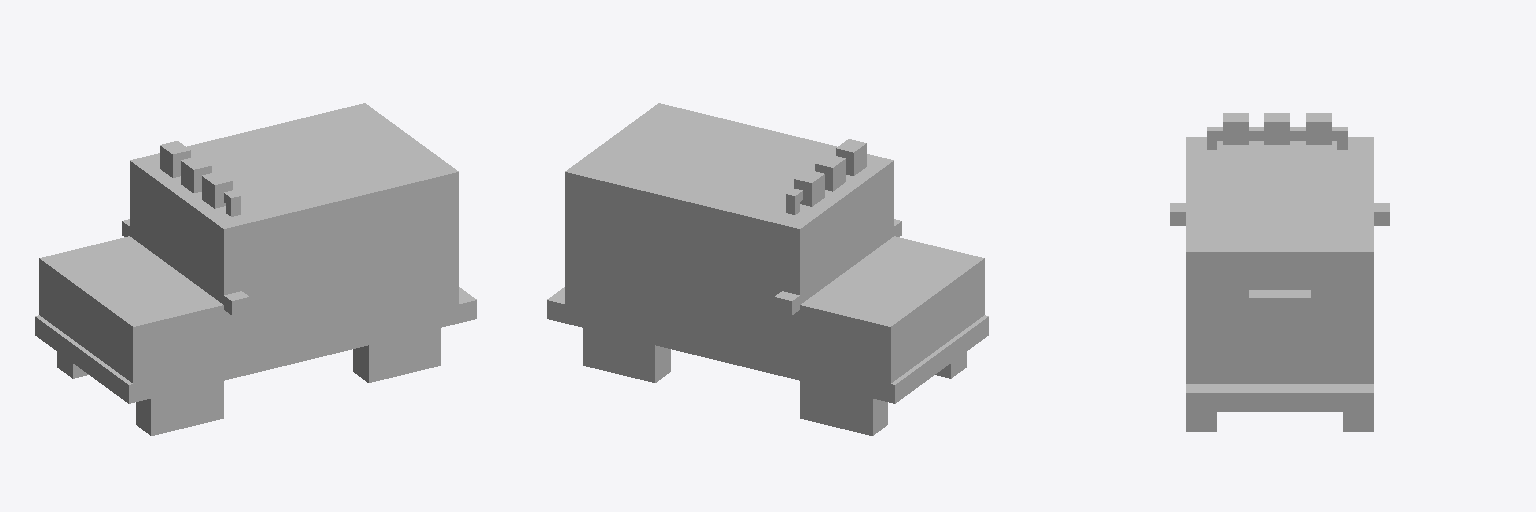
The model's file is alll cars3-105.obj.
3 renders of one model, left to right at view 1: azimuth 30°, elevation 25°; view 2: azimuth 150°, elevation 25°; view 3: azimuth 270°, elevation 25°, orthographic.
Visible parts, largest first — view 1: object 1; view 2: object 1; view 3: object 1.
Boxes of the visible parts, x1=… form: object 1: x1=35, y1=103, x2=476, y2=435; object 1: x1=547, y1=103, x2=988, y2=435; object 1: x1=1170, y1=113, x2=1389, y2=431.
Size of the model in its own units: 7.7 by 4.6 by 4.2.